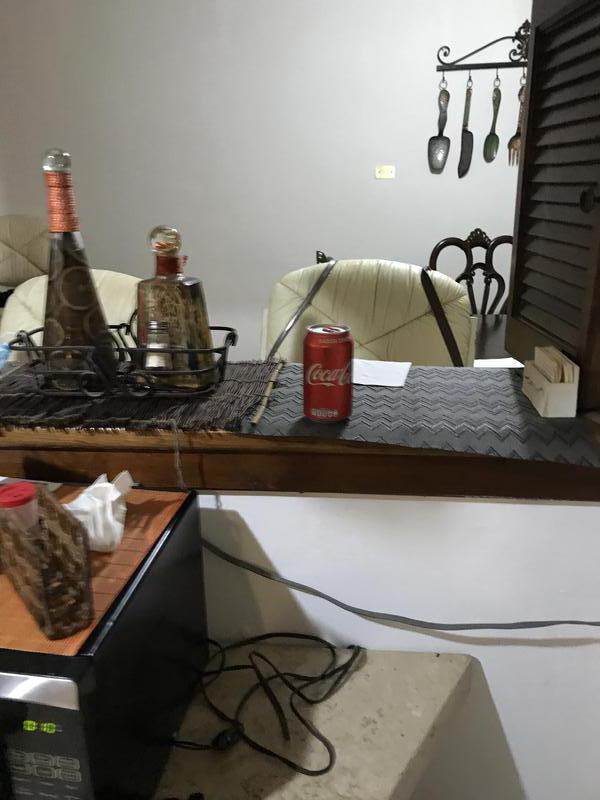coca_cola: (301, 325, 355, 427)
